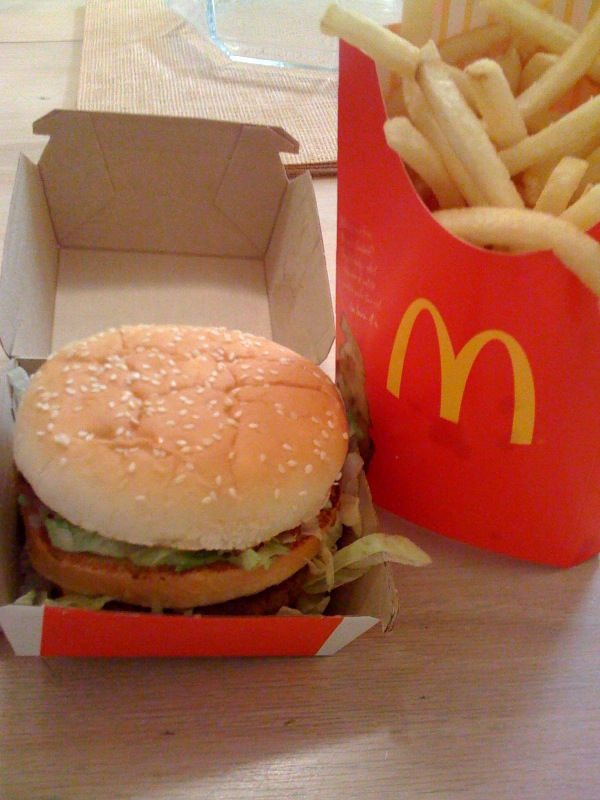mcdonalds: (377, 289, 557, 462)
